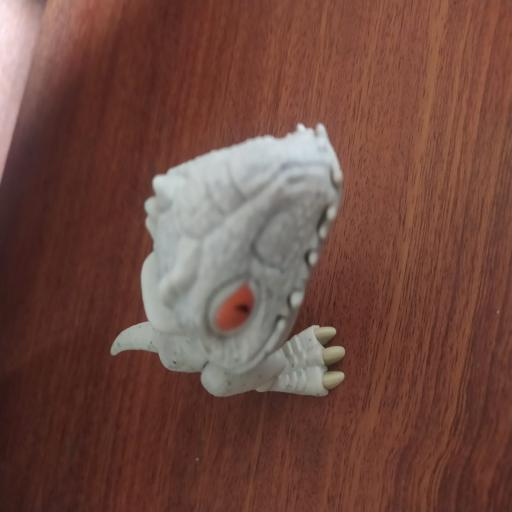Dinosaurio: (99, 116, 360, 409)
